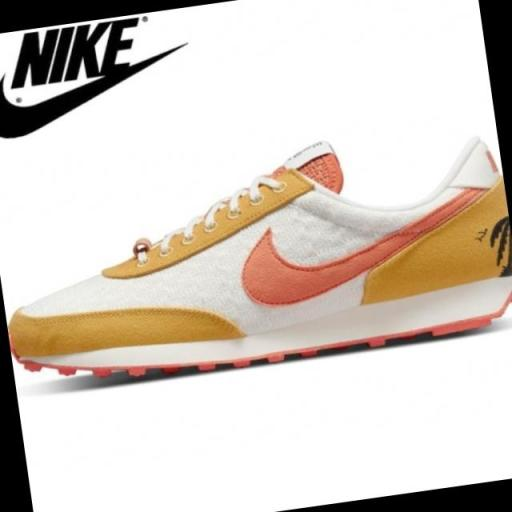Nike: (0, 66, 156, 142), (1, 14, 149, 92)
